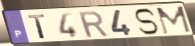4: (110, 9, 135, 37), (57, 13, 80, 40)
M: (155, 5, 193, 36)
R: (77, 10, 111, 39)
S: (133, 7, 160, 36)
T: (27, 13, 48, 41)
